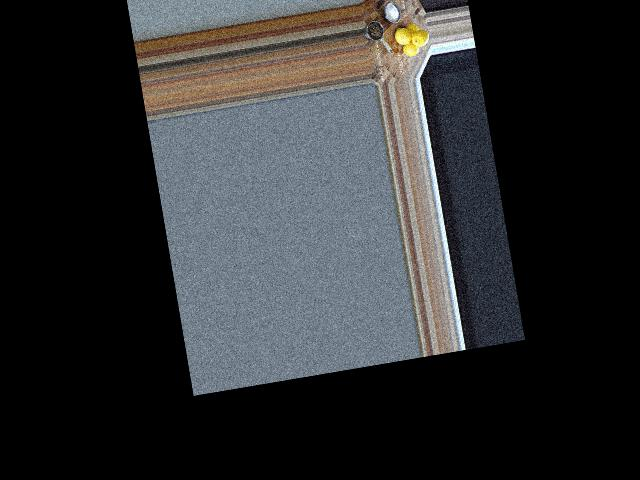lemon: (404, 21, 418, 36)
